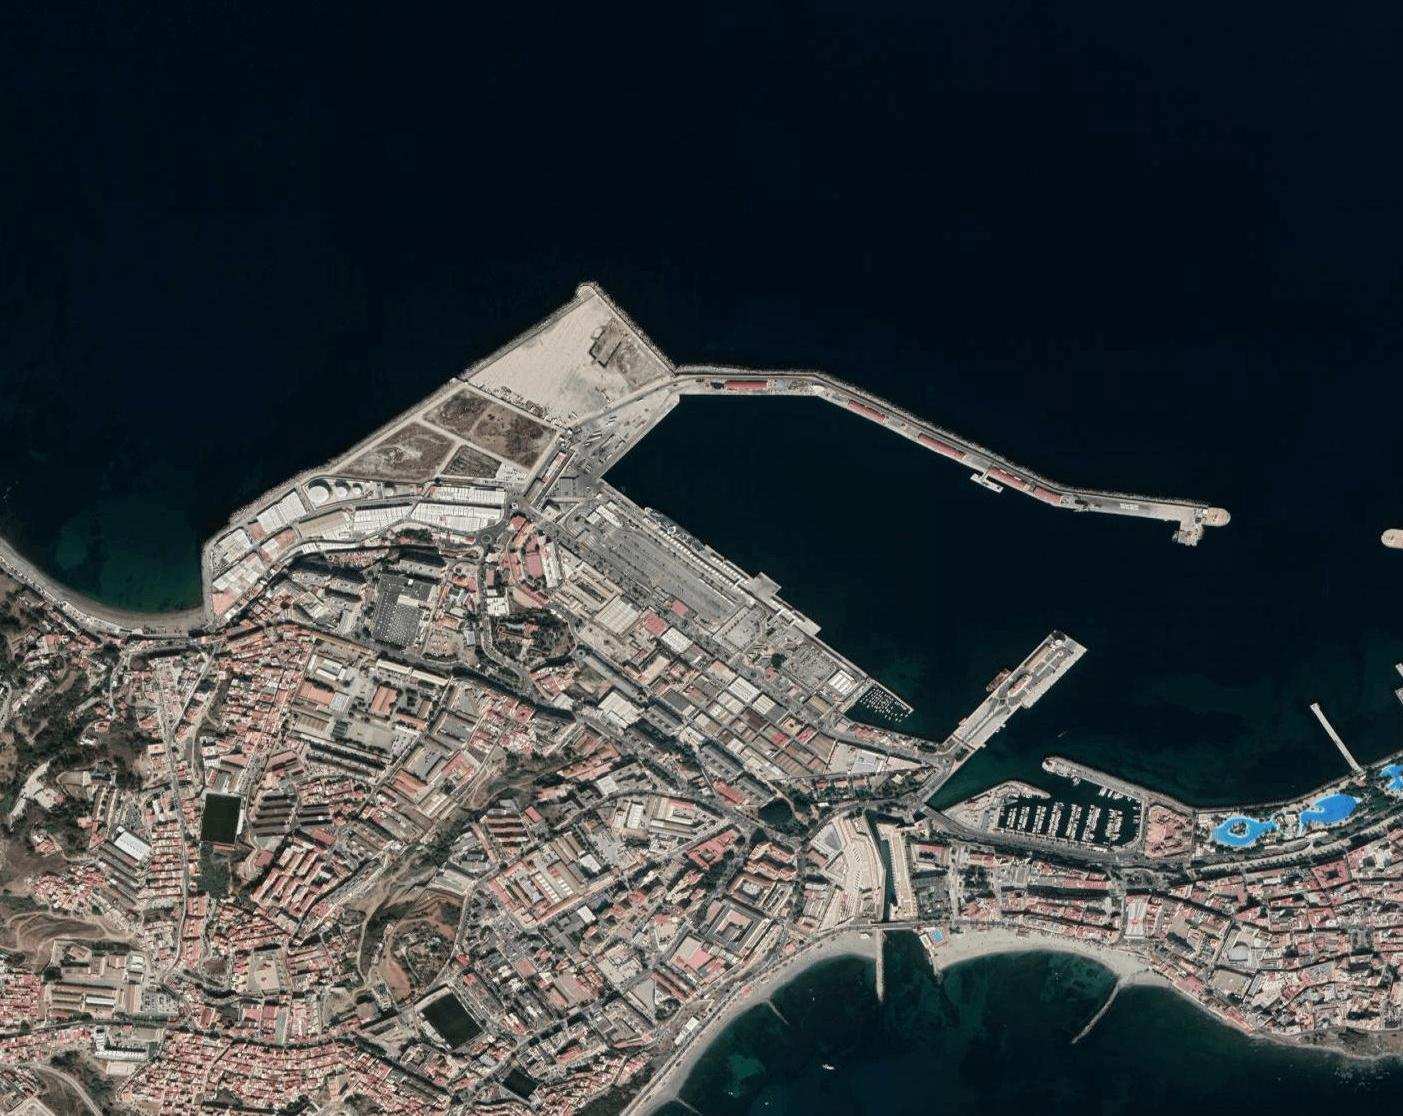harbor: (440, 282, 1272, 829)
